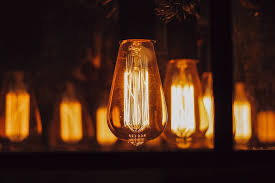bulb: (100, 25, 172, 156), (159, 46, 213, 155)
